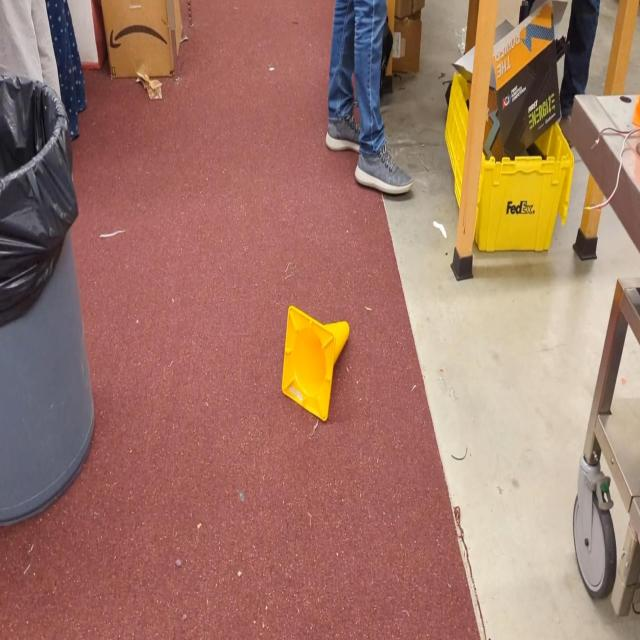frc_cone: (281, 304, 350, 423)
